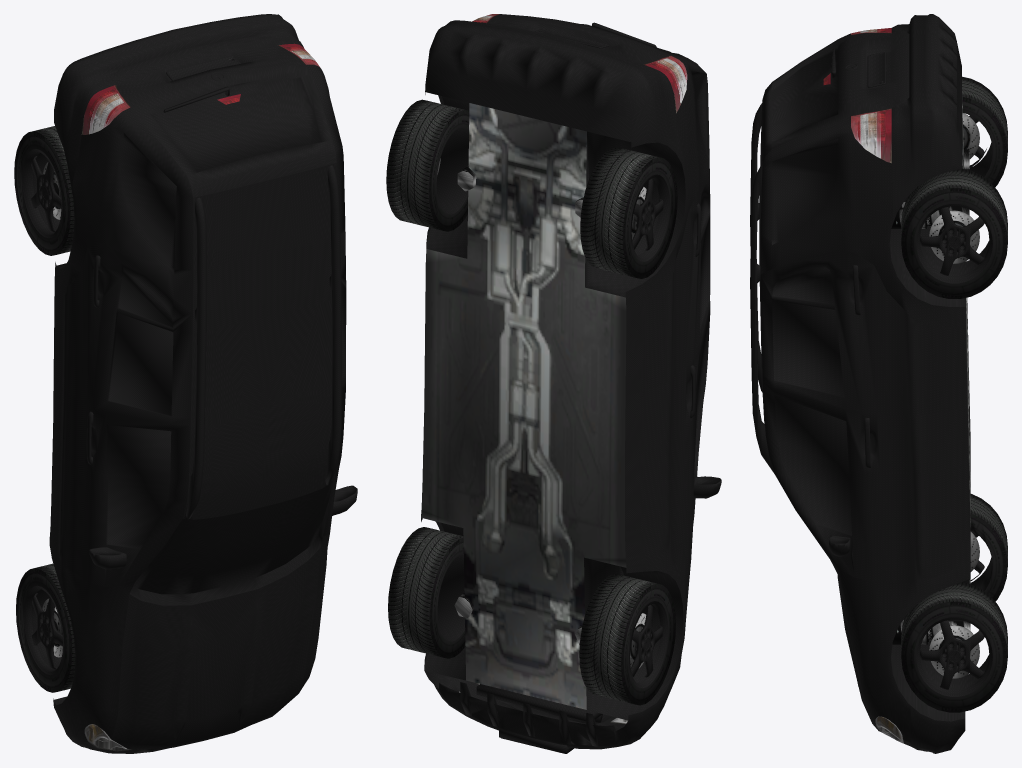
Rendered from SUV_001.obj.
3 renders of one model, left to right at view 1: azimuth 30°, elevation 25°; view 2: azimuth 150°, elevation 25°; view 3: azimuth 270°, elevation 25°, orthographic. The views are drawn at different scales.
Size of the model in its own units: 2.04 by 5.27 by 1.82.
